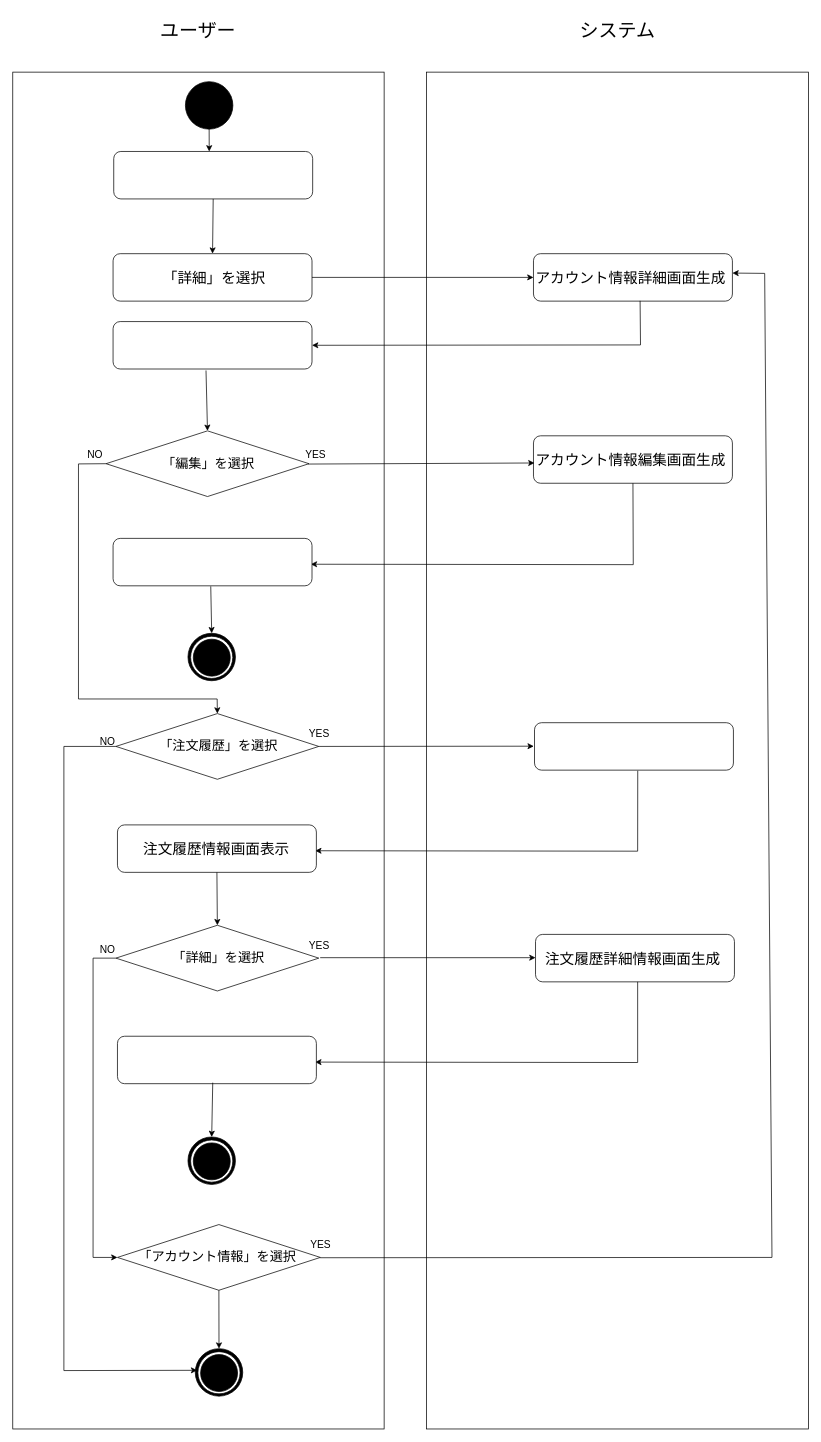
This 821x1442 diagram has some shape labels left out. Here are the shapes that lost their labels. From the top down, the centre of each, then its label:
point 213,175: 依頼者アカウント一覧画面表示
point 212,345: アカウント情報詳細画面表示
point 212,562: アカウント情報編集画面表示
point 633,746: 注文履歴情報画面生成
point 216,1060: 注文履歴詳細情報画面表示
